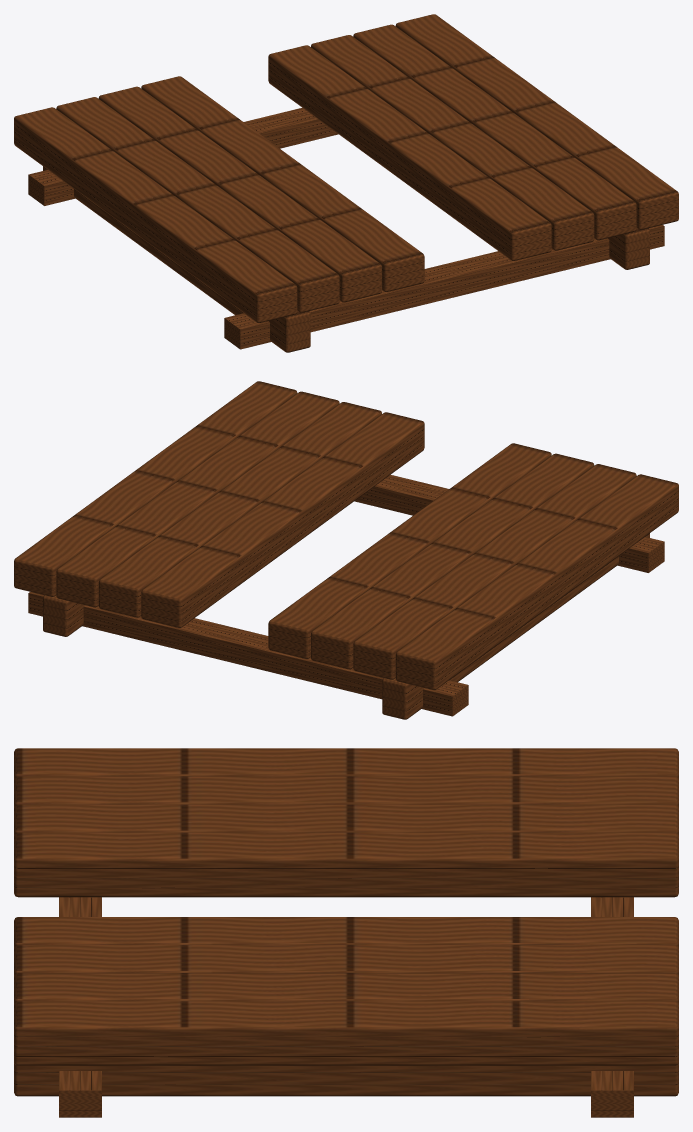
Rendered from roadside-survival-stops-inspection-channel-floor-f2d6fa29__23522.glb.
3 renders of one model, top to bottom at view 1: azimuth 30°, elevation 25°; view 2: azimuth 150°, elevation 25°; view 3: azimuth 270°, elevation 25°, orthographic. The views are drawn at different scales.
Visible parts, largest first — view 1: inspection-channel-floor; view 2: inspection-channel-floor; view 3: inspection-channel-floor.
Boxes of the visible parts, bbox=[...] form: inspection-channel-floor: bbox=[14, 14, 678, 352]; inspection-channel-floor: bbox=[14, 381, 678, 719]; inspection-channel-floor: bbox=[14, 748, 678, 1117].
Bounding box in the file's own units: 2 × 0.3001 × 2.
Materials: 1 (1 with a texture image).
